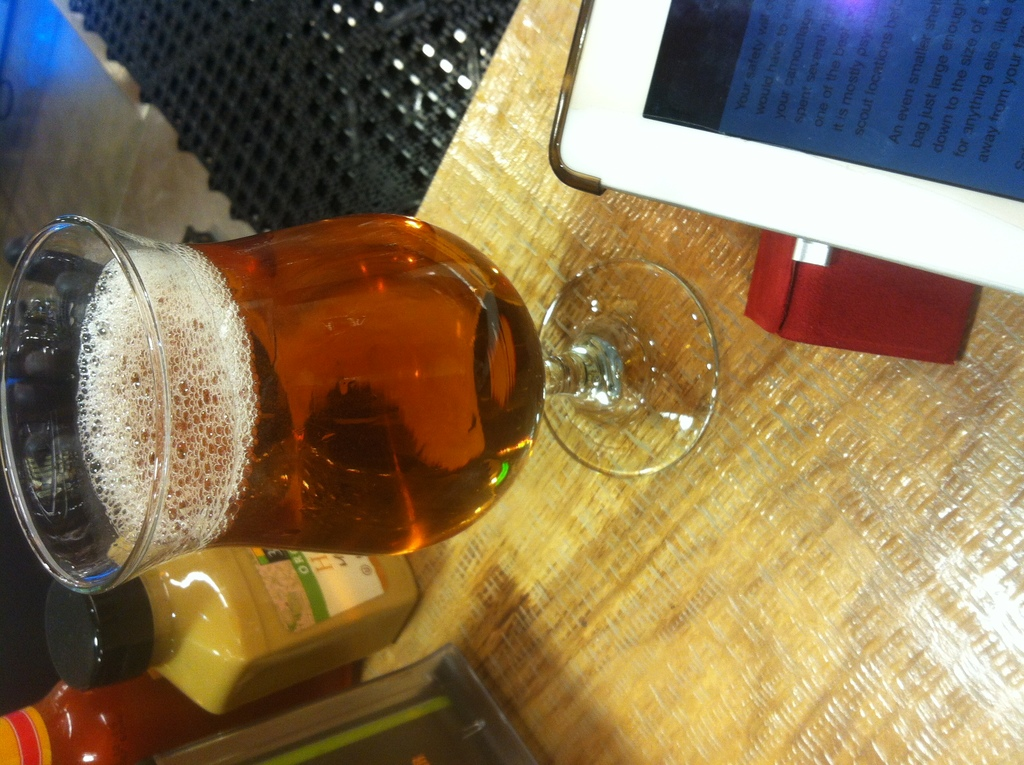Beer: (0, 220, 758, 668)
